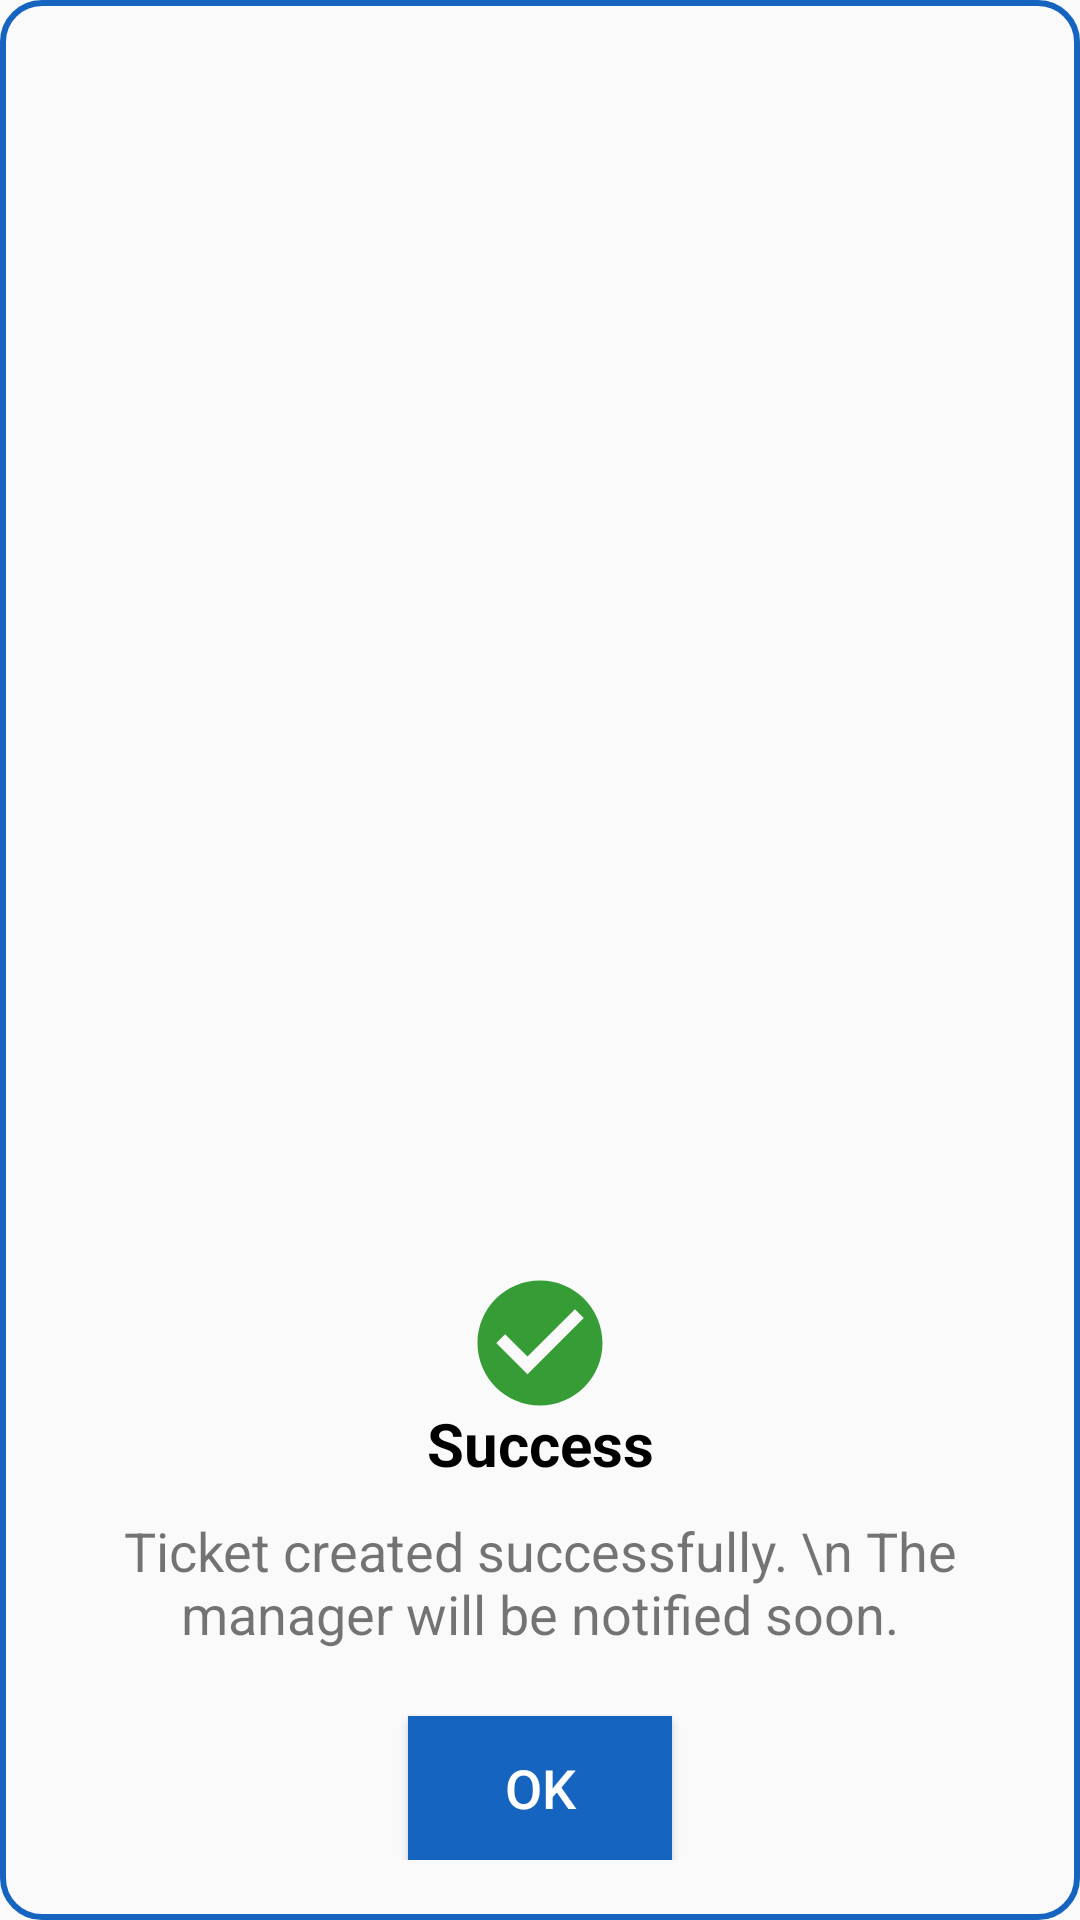

Named icons in this screenshot (1080 × 1920) and their centers, point (x, y):
check: point (540, 1343)
